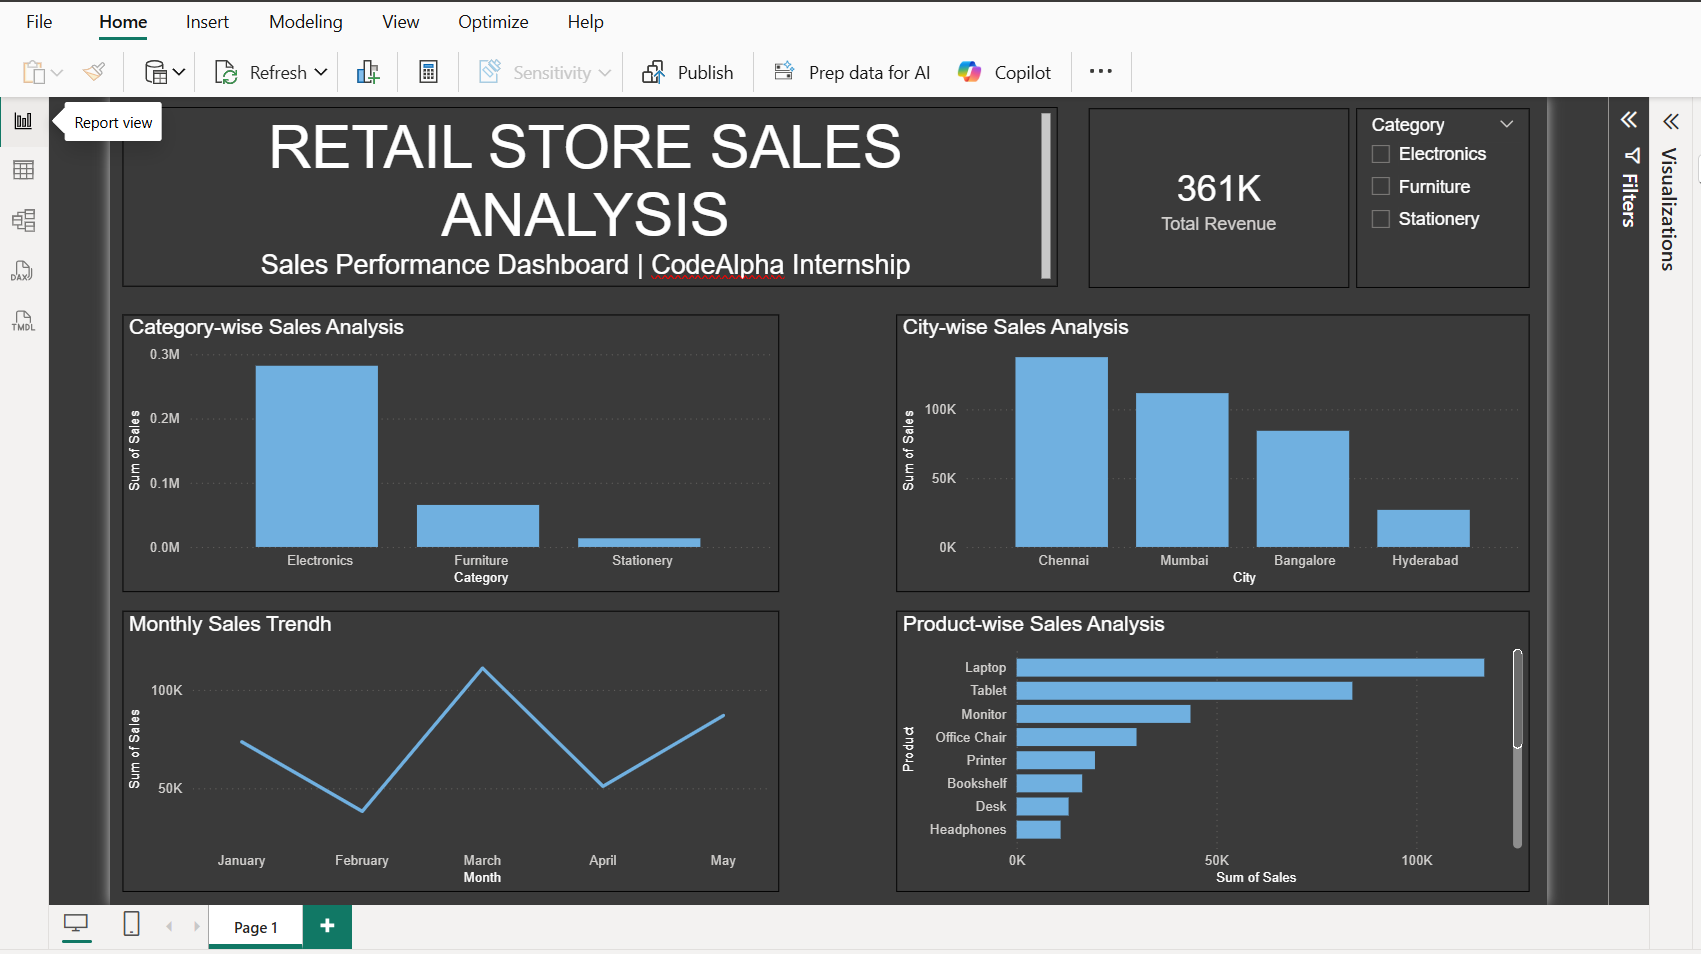

This screenshot's page, from the dashboard's own definition file:
{"tool":"powerbi","page":{"name":"Page 1","canvas":[1280,720],"ordinal":0},"visuals":[{"type":"card","fields":{"Values":["Sum(CodeAlpha_Retail_Store_Sales.Sales)"]},"box":[871.9,9.8,232.3,160.2],"z":0},{"type":"clusteredColumnChart","title":"Category-wise Sales Analysis","fields":{"Category":["CodeAlpha_Retail_Store_Sales.Category"],"Y":["Sum(CodeAlpha_Retail_Store_Sales.Sales)"]},"box":[11,193.2,584.5,247],"z":1000},{"type":"lineChart","title":"Monthly Sales Trendh","fields":{"Category":["CodeAlpha_Retail_Store_Sales.Order_Date.Variation.Date Hierarchy.Month"],"Y":["Sum(CodeAlpha_Retail_Store_Sales.Sales)"]},"box":[11,457.3,584.5,250.7],"z":2000},{"type":"clusteredColumnChart","title":"City-wise Sales Analysis","fields":{"Category":["CodeAlpha_Retail_Store_Sales.City"],"Y":["Sum(CodeAlpha_Retail_Store_Sales.Sales)"]},"box":[700.7,193.2,563.7,247],"z":3000},{"type":"clusteredBarChart","title":"Product-wise Sales Analysis","fields":{"Y":["Sum(CodeAlpha_Retail_Store_Sales.Sales)"],"Category":["CodeAlpha_Retail_Store_Sales.Product"]},"box":[700.7,457.3,563.7,250.7],"z":4000},{"type":"slicer","fields":{"Values":["CodeAlpha_Retail_Store_Sales.Category"]},"box":[1110.3,9.8,154.1,160.2],"z":5000},{"type":"textbox","box":[11,8.6,832.7,160.2],"z":6000}]}

Visuals, with their boxes on the page's 1280x720 design canvas (x1, y1, x2, y2). These are canvas units, not pixel positions in the 1701x954 screenshot, which may show the page scaled, cropped or inside an application window:
card - Sum(CodeAlpha_Retail_Store_Sales.Sales): (left=872, top=10, right=1104, bottom=170)
"Category-wise Sales Analysis" clusteredColumnChart: (left=11, top=193, right=596, bottom=440)
"Monthly Sales Trendh" lineChart: (left=11, top=457, right=596, bottom=708)
"City-wise Sales Analysis" clusteredColumnChart: (left=701, top=193, right=1264, bottom=440)
"Product-wise Sales Analysis" clusteredBarChart: (left=701, top=457, right=1264, bottom=708)
slicer - CodeAlpha_Retail_Store_Sales.Category: (left=1110, top=10, right=1264, bottom=170)
textbox: (left=11, top=9, right=844, bottom=169)
